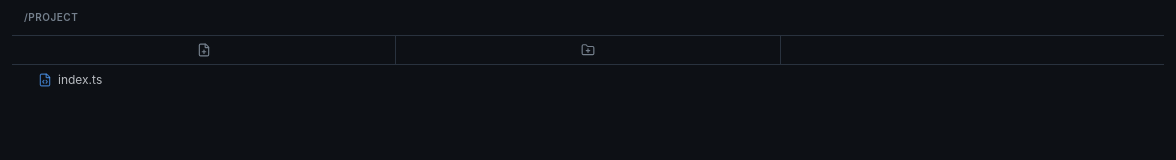
Test: FileTree — context menu › context menu "Rename" shows inline rename input
This screenshot has width=1176, height=160.
Right-click the button "index.ts" at (80, 80), box [12,69,1164,91]
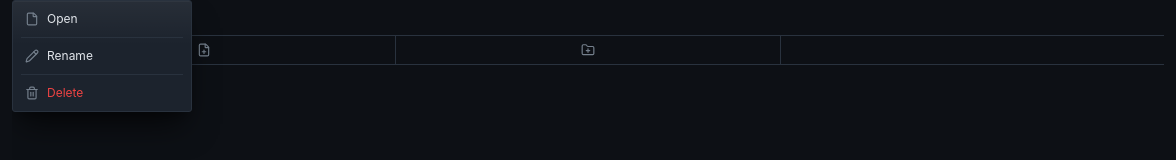
Click the button "Rename" at (102, 56), box [17,42,187,70]
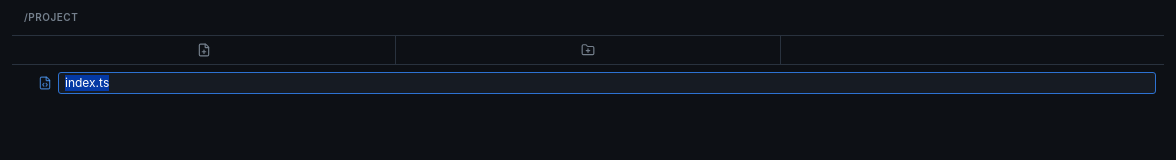
Expected: the field showing "index.ts" is shown, [58,72,1156,94]
